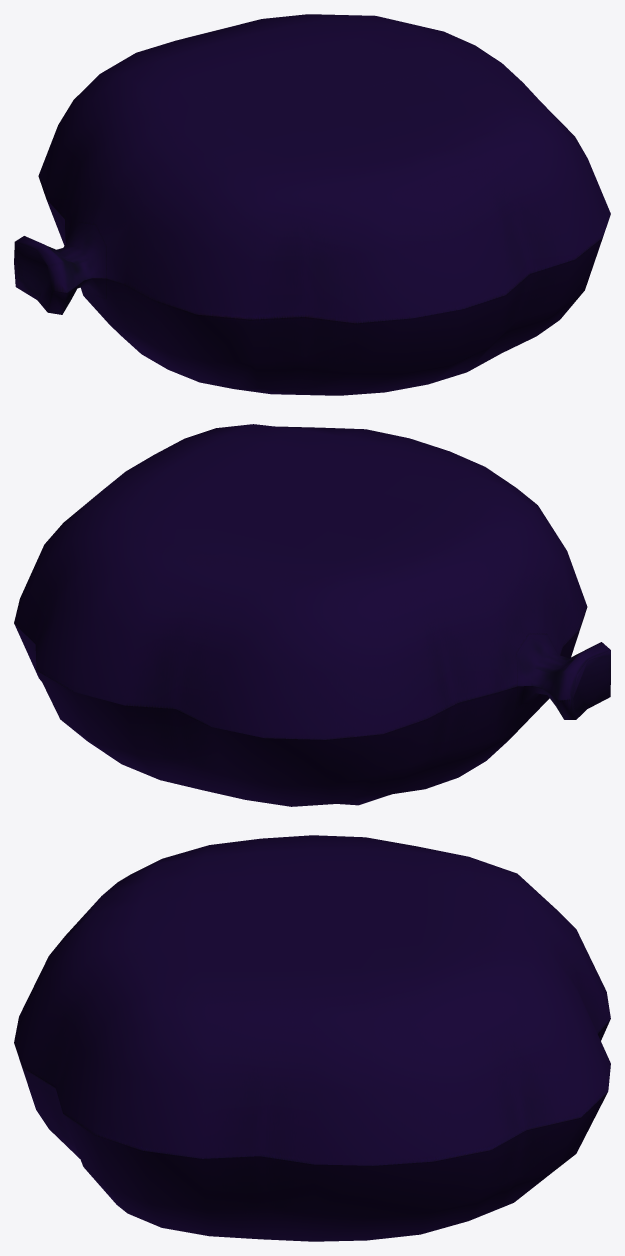
3 renders of one model, top to bottom at view 1: azimuth 30°, elevation 25°; view 2: azimuth 150°, elevation 25°; view 3: azimuth 270°, elevation 25°, orthographic. The views are drawn at different scales.
Visible parts, largest first — view 1: Cojin; view 2: Cojin; view 3: Cojin.
Part boxes in pixels (box(x1,y1,x2,y2)): Cojin: box(14, 14, 610, 395); Cojin: box(14, 424, 610, 806); Cojin: box(14, 835, 610, 1241).
Bounding box in the file's own units: 0.5498 × 0.2242 × 0.5005.
